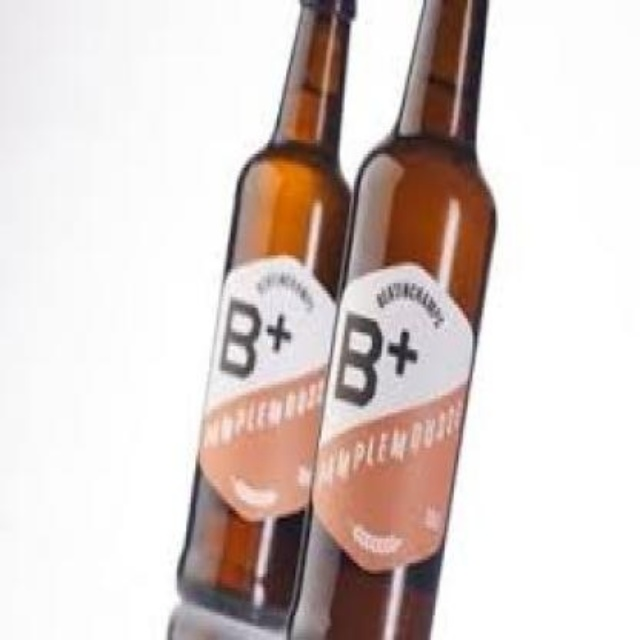trash: (291, 0, 494, 638), (169, 0, 352, 638)
